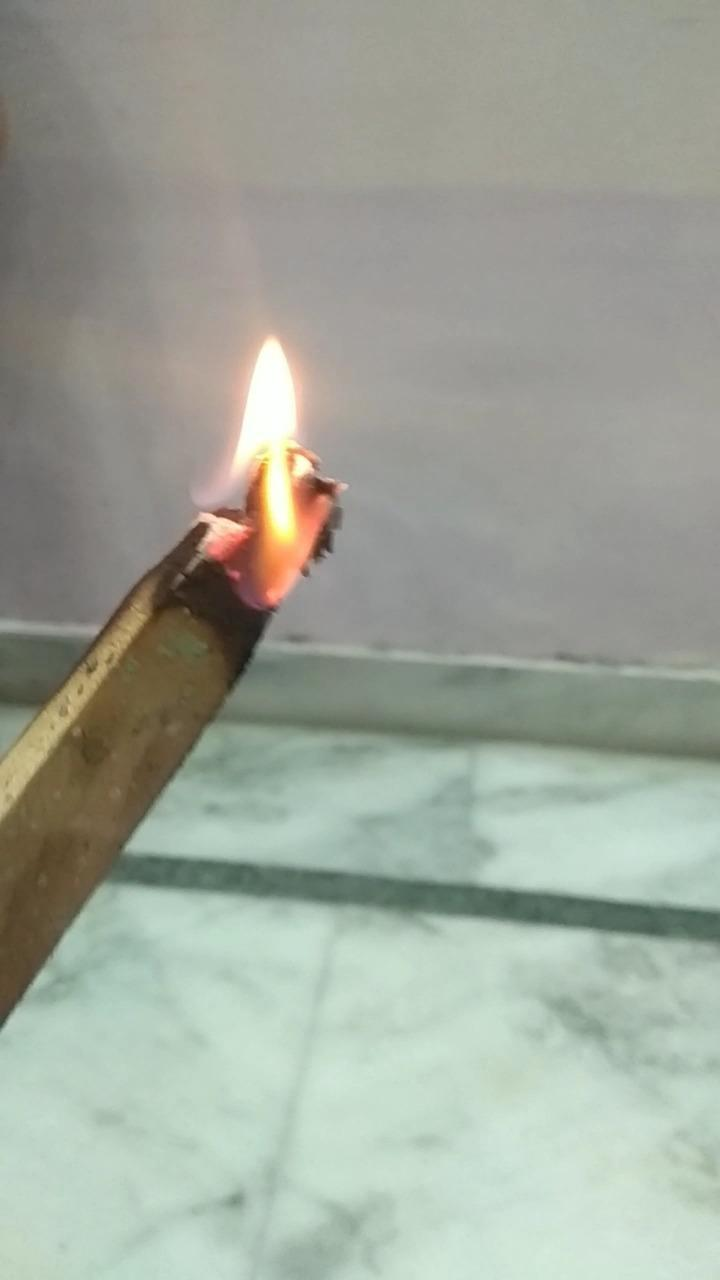fire: (191, 314, 354, 620)
